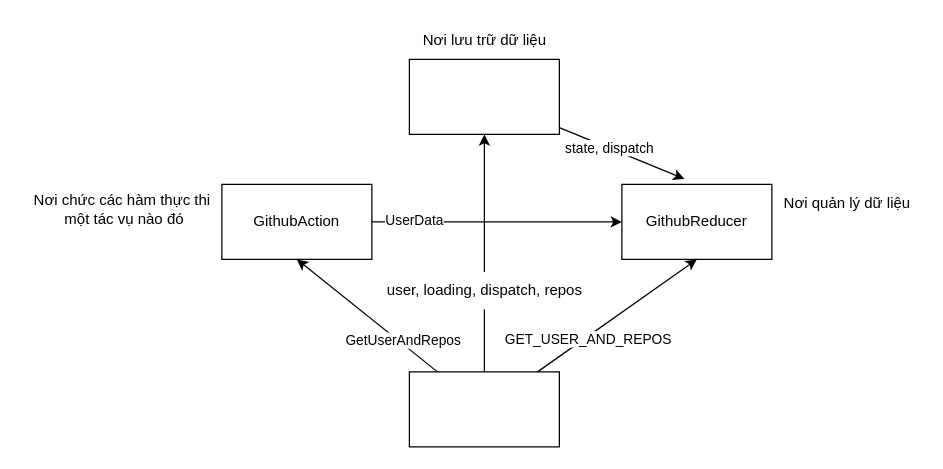
Image size: 943x469. Some labels were removed from this diagram. The shapes that lost their labels are listed below. From the top down, each one's centre as x and y in pixels, then its label:
At point 483,96: "GithubContext".
At point 483,409: "User.jsx".
